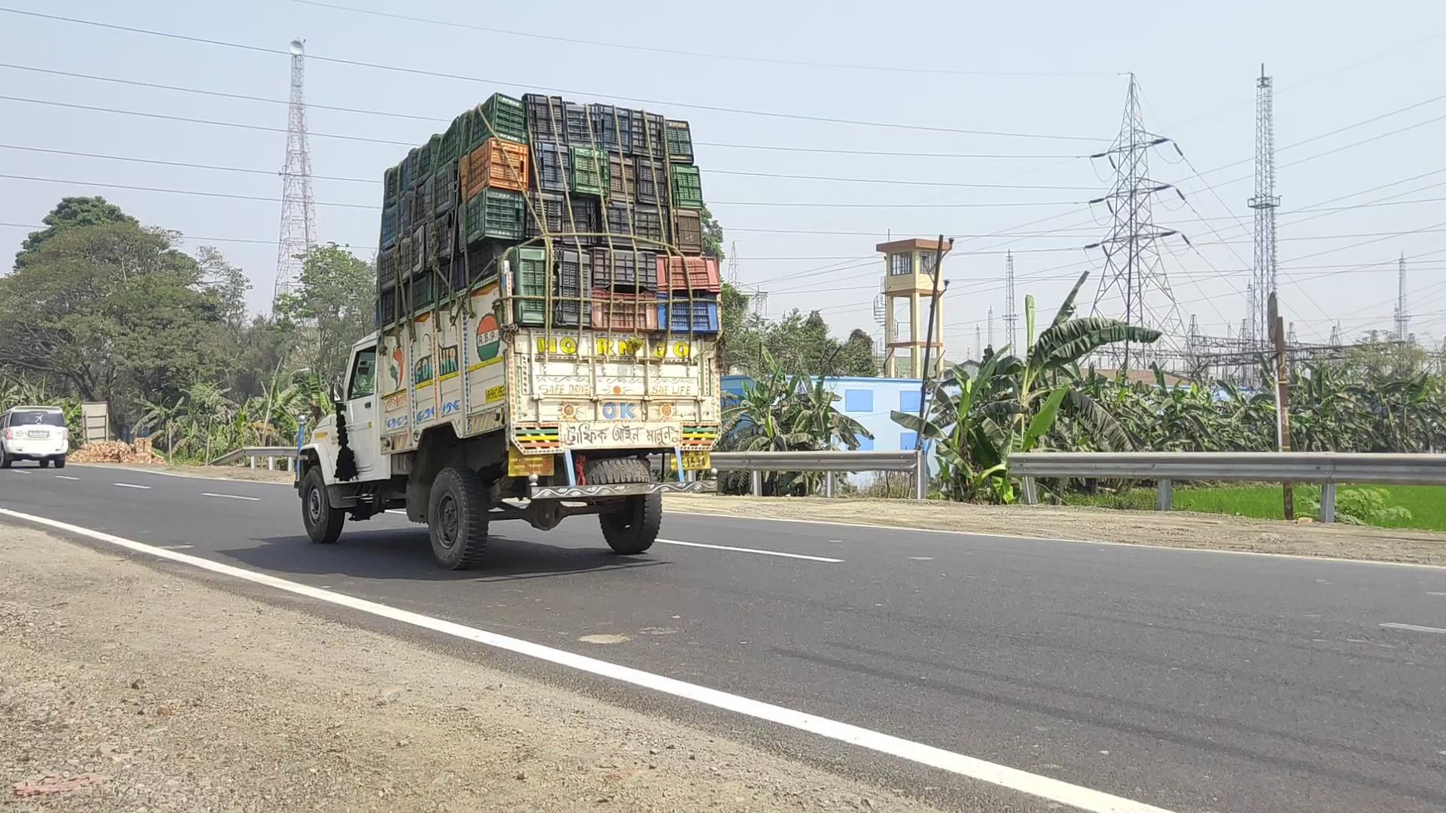car: (1, 405, 69, 470)
van: (294, 93, 721, 570)
